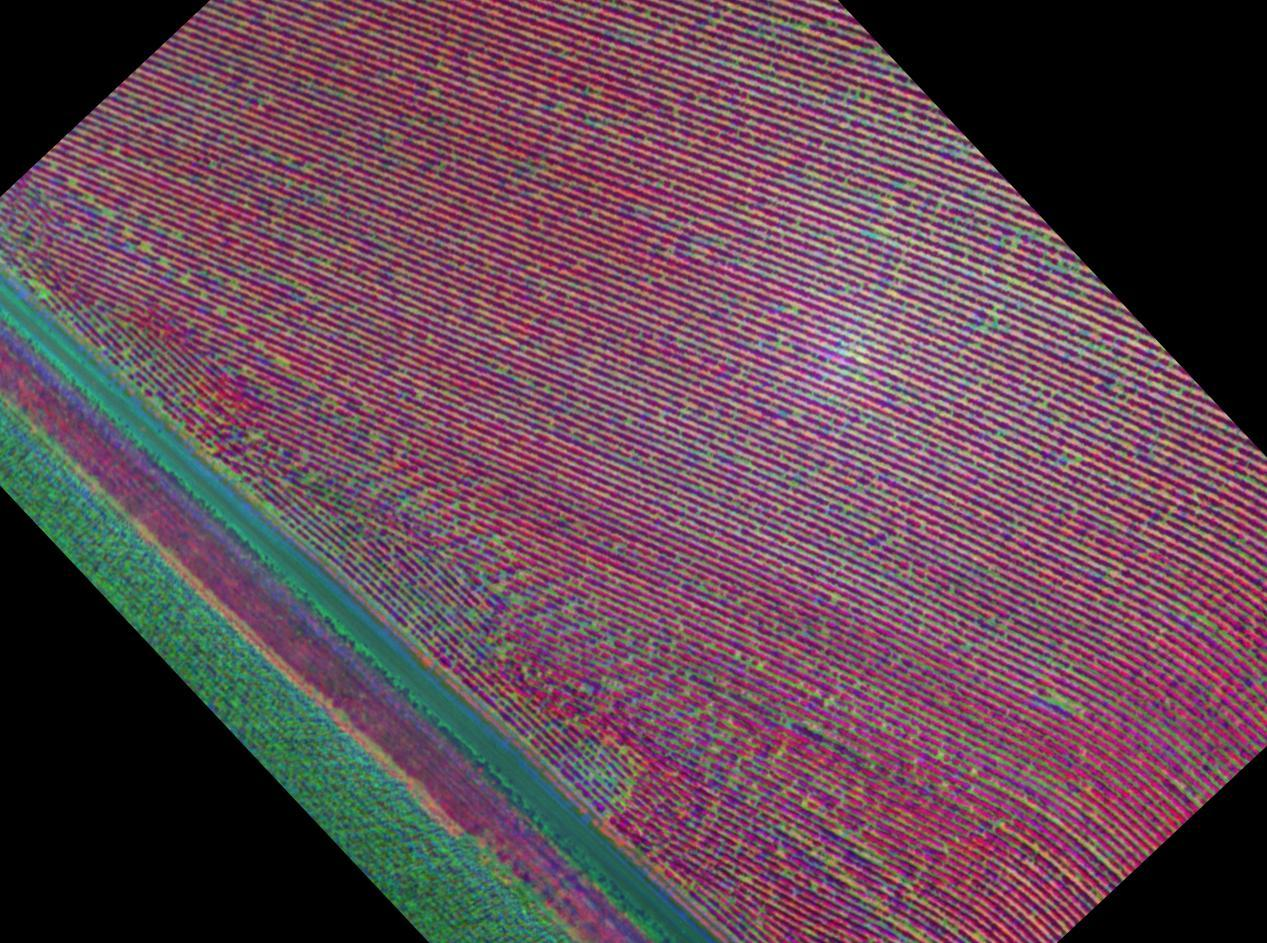dc: (1057, 698, 1066, 706), (626, 779, 632, 785), (219, 307, 225, 312), (608, 638, 613, 644), (70, 179, 75, 184), (182, 277, 187, 282)
